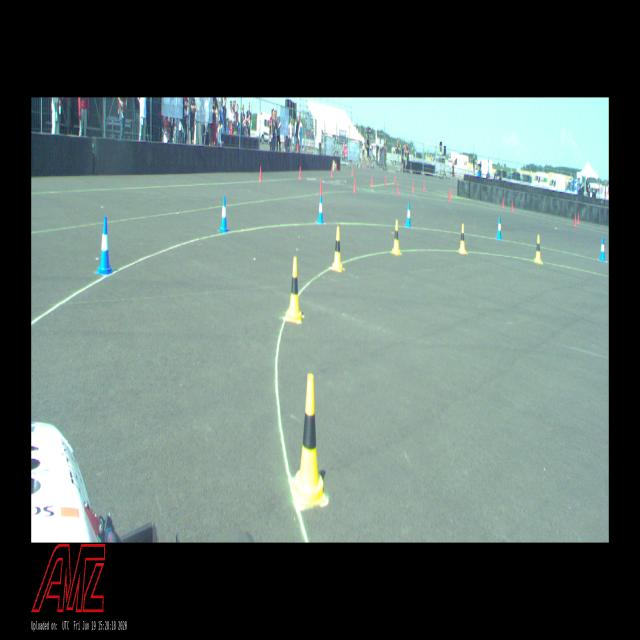blue_cone: (96, 217, 114, 276), (219, 196, 229, 233), (317, 196, 324, 224), (600, 238, 606, 261), (496, 217, 502, 240), (406, 203, 411, 228)
unknown_cone: (259, 166, 262, 182), (353, 178, 356, 192), (574, 214, 577, 226), (320, 179, 322, 195), (396, 183, 398, 196), (299, 167, 301, 179), (448, 190, 450, 202), (511, 201, 513, 213), (412, 182, 414, 192), (502, 198, 504, 208), (577, 213, 579, 223), (422, 182, 424, 192), (370, 177, 372, 187), (330, 167, 332, 177)
yellow_cone: (292, 374, 326, 505), (287, 257, 301, 321), (332, 226, 343, 271), (392, 220, 400, 255), (458, 223, 466, 255), (534, 234, 542, 264)
